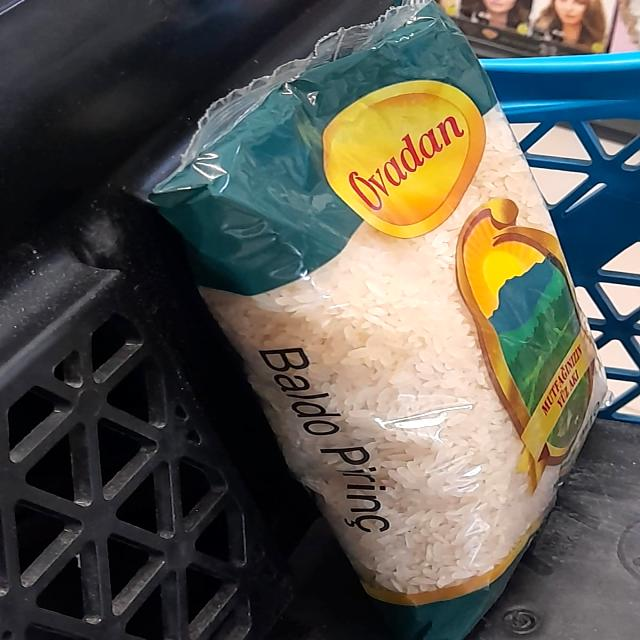rice: (187, 12, 632, 640)
